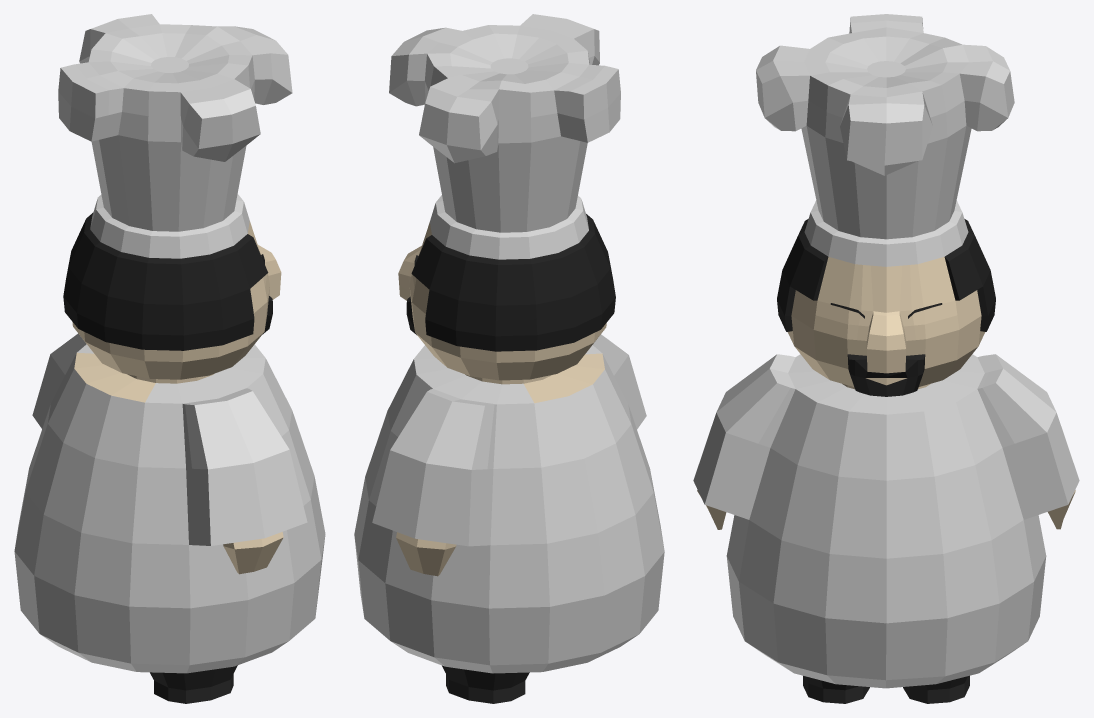
File: Cheff.fbx
The picture shows the model from 3 angles, left to right: view 1: azimuth 30°, elevation 25°; view 2: azimuth 150°, elevation 25°; view 3: azimuth 270°, elevation 25°; orthographic projection. The views are drawn at different scales.
Parts seen in each view (by area): view 1: Chef; view 2: Chef; view 3: Chef.
Boxes of the visible parts, left/top/right/bottom form: Chef: left=14, top=14, right=325, bottom=703; Chef: left=354, top=14, right=664, bottom=703; Chef: left=693, top=14, right=1079, bottom=703.
Size of the model in its own units: 171 by 142 by 307.
